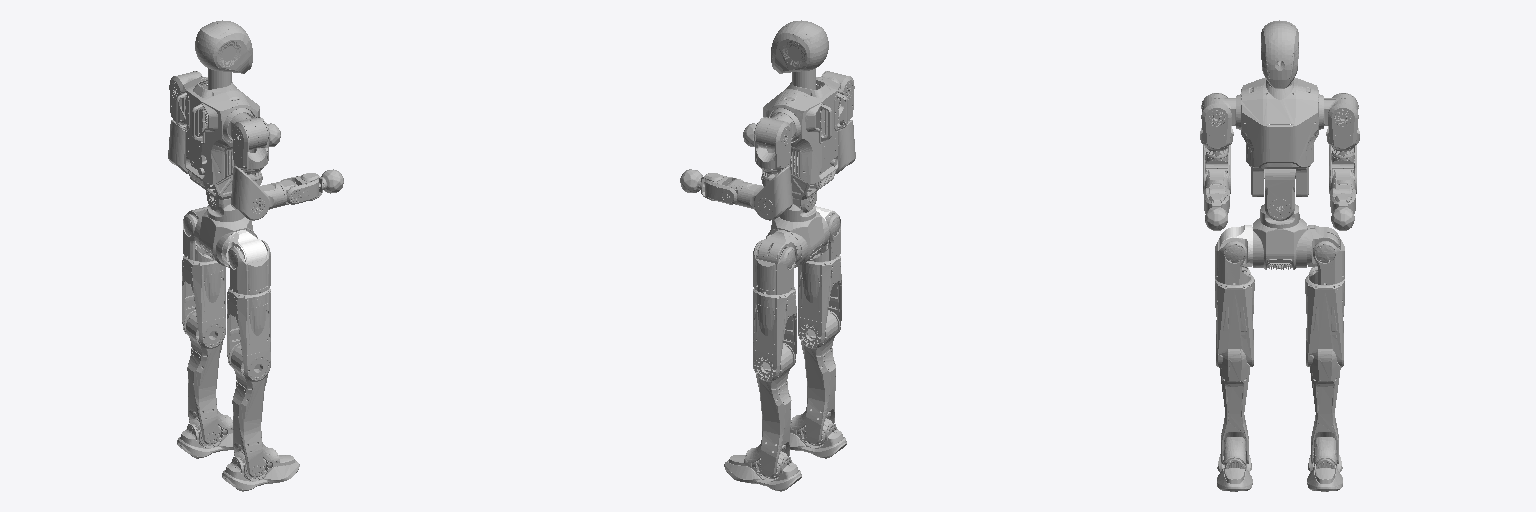
--- Render facts (derived) ---
The picture shows the robot from 3 angles, left to right: view 1: azimuth 30°, elevation 25°; view 2: azimuth 150°, elevation 25°; view 3: azimuth 270°, elevation 25°; orthographic projection.
Robot: B-20250522 — 30 links, 29 joints (29 revolute); root link base_link; default pose: every joint at zero.
Links seen in each view (by area): view 1: body, right_hip_z_link, left_hip_z_link, right_knee_link, left_knee_link, right_ankle_x_link, right_hip_x_link, right_shoulder_z_link, base_link, left_ankle_x_link, right_shoulder_x_link, right_hip_y_link (+5 smaller); view 2: body, left_hip_z_link, right_hip_z_link, right_knee_link, left_knee_link, left_ankle_x_link, left_hip_x_link, base_link, left_shoulder_z_link, right_ankle_x_link, left_shoulder_x_link, left_hip_y_link (+6 smaller); view 3: body, left_hip_z_link, right_hip_z_link, base_link, right_knee_link, left_knee_link, left_ankle_x_link, right_ankle_x_link, left_hip_x_link, right_hip_x_link, left_shoulder_x_link, right_shoulder_x_link (+8 smaller).
Boxes of the visible links, box(x1,y1,x2,y2) form: body: box(176, 20, 259, 199); right_hip_z_link: box(227, 287, 270, 381); left_hip_z_link: box(182, 255, 225, 348); right_knee_link: box(231, 345, 267, 476); left_knee_link: box(186, 312, 222, 443); right_ankle_x_link: box(222, 444, 299, 491); right_hip_x_link: box(228, 240, 270, 294); right_shoulder_z_link: box(231, 166, 269, 220); base_link: box(194, 211, 257, 267); left_ankle_x_link: box(177, 411, 232, 458); right_shoulder_x_link: box(232, 117, 269, 169); right_hip_y_link: box(222, 230, 267, 263); body: box(763, 20, 847, 199); left_hip_z_link: box(753, 287, 796, 381); right_hip_z_link: box(798, 255, 841, 348); right_knee_link: box(801, 311, 837, 443); left_knee_link: box(756, 344, 792, 476); left_ankle_x_link: box(724, 444, 801, 491); left_hip_x_link: box(753, 240, 795, 294); base_link: box(766, 211, 829, 267); left_shoulder_z_link: box(754, 166, 792, 220); right_ankle_x_link: box(790, 411, 846, 458); left_shoulder_x_link: box(754, 117, 791, 169); left_hip_y_link: box(756, 230, 801, 263); body: box(1236, 20, 1323, 196); left_hip_z_link: box(1305, 275, 1344, 367); right_hip_z_link: box(1215, 275, 1254, 366); base_link: box(1253, 218, 1306, 269); right_knee_link: box(1219, 349, 1249, 463); left_knee_link: box(1310, 349, 1340, 463); left_ankle_x_link: box(1307, 437, 1342, 491); right_ankle_x_link: box(1217, 437, 1252, 491); left_hip_x_link: box(1308, 232, 1344, 284); right_hip_x_link: box(1215, 238, 1250, 284); left_shoulder_x_link: box(1326, 93, 1359, 147); right_shoulder_x_link: box(1200, 93, 1233, 147).
Size in the robot's own frame: 0.5258 by 0.5733 by 1.77 metres.
Meshes: 17 distinct files referenced, 30 mesh visuals loaded (17 binary STL).

URDF robot description (B-20250522):
<?xml version="1.0" encoding="utf-8"?>
<!-- This URDF was automatically created by SolidWorks to URDF Exporter! Originally created by Stephen Brawner ([email redacted]) 
     Commit Version: 1.6.0-4-g7f85cfe  Build Version: 1.6.7995.38578
     For more information, please see http://wiki.ros.org/sw_urdf_exporter -->
<robot name="B-20250522">
    <mujoco>
        <compiler meshdir="./meshes/" balanceinertia="false" discardvisual="false"/>
    </mujoco>
    <link name="base_link">
        <inertial>
            <origin xyz="0.00036 -0.00001 0.01581" rpy="0 0 0"/>
            <mass value="7.82975"/>
            <inertia ixx="0.04503" ixy="0.00004" ixz="0.00009" iyy="0.03128" iyz="0.00001" izz="0.03698"/>
        </inertial>
        <visual>
            <origin xyz="0 0 0" rpy="0 0 0"/>
            <geometry>
                <mesh filename="./meshes/base.stl"/>
            </geometry>
            <material name="">
                <color rgba="0.75294 0.75294 0.75294 1"/>
            </material>
        </visual>
        <collision>
            <origin xyz="0 0 0" rpy="1.57079632 0  0"/>
            <geometry>
                <cylinder length="0.13" radius="0.09"/>
            </geometry>
        </collision>
    </link>
    <link name="waist_z_link">
        <inertial>
            <origin xyz="0.00104 -0.00048 -0.01227" rpy="0 0 0"/>
            <mass value="1.84403"/>
            <inertia ixx="0.00320" ixy="-0.00001" ixz="0" iyy="0.00351" iyz="0.00001"
                     izz="0.00346"/>
        </inertial>
        <visual>
            <origin xyz="0 0 0" rpy="0 0 0"/>
            <geometry>
                <mesh filename="./meshes/waist_z.stl"/>
            </geometry>
            <material name="">
                <color rgba="0.75294 0.75294 0.75294 1"/>
            </material>
        </visual>
        <collision>
            <origin xyz="0 0 -0.07" rpy="0 0 0"/>
            <geometry>
                <cylinder length="0.06" radius="0.065"/>
            </geometry>
        </collision>
    </link>
    <joint name="waist_z_joint" type="revolute">
        <origin xyz="0 0 0.176" rpy="0 0 0"/>
        <parent link="base_link"/>
        <child link="waist_z_link"/>
        <axis xyz="0 0 1"/>
        <limit lower="-3.6652" upper="1.7453" effort="107" velocity="19.38"/>
    </joint>
    <link name="waist_x_link">
        <inertial>
            <origin xyz="-0.00258 0.00086 0.09228" rpy="0 0 0"/>
            <mass value="3.40004"/>
            <inertia ixx="0.01263" ixy="-0.00006" ixz="-0.0006" iyy="0.01307" iyz="-0.00004"
                     izz="0.00876"/>
        </inertial>
        <visual>
            <origin xyz="0 0 0" rpy="0 0 0"/>
            <geometry>
                <mesh filename="./meshes/waist_x.stl"/>
            </geometry>
            <material name="">
                <color rgba="0.75294 0.75294 0.75294 1"/>
            </material>
        </visual>
        <collision>
            <origin xyz="0 0 0.03" rpy="0 0 0"/>
            <geometry>
                <box size="0.12 0.09 0.14"/>
            </geometry>
        </collision>
    </link>
    <joint name="waist_x_joint" type="revolute">
        <origin xyz="0 0 0." rpy="0 0 0"/>
        <parent link="waist_z_link"/>
        <child link="waist_x_link"/>
        <axis xyz="1 0 0"/>
        <limit lower="-0.7854" upper="0.7854" effort="107" velocity="19.38"/>
    </joint>
    <link name="body">
        <inertial>
            <origin xyz="-0.03514 -0.00347 0.18093" rpy="0 0 0"/>
            <mass value="17.72258"/>
            <inertia ixx="0.27657" ixy="0.00425" ixz="-0.00829" iyy="0.27339" iyz="-0.00746" izz="0.15935"/>
        </inertial>
        <visual>
            <origin xyz="0 0 0." rpy="0 0 0"/>
            <geometry>
                <mesh filename="./meshes/body.stl"/>
            </geometry>
            <material name="">
                <color rgba="0.75294 0.75294 0.75294 1"/>
            </material>
        </visual>
        <collision>
            <origin xyz="-0.025 0 0.125" rpy="0 0 0"/>
            <geometry>
                <box size="0.2 0.2 0.375"/>
            </geometry>
        </collision>
        <collision>
            <origin xyz="-0.025 0 0.2" rpy="0 0 0"/>
            <geometry>
                <box size="0.23 0.25 0.25"/>
            </geometry>
        </collision>
        <collision>
            <origin xyz="-0.029 0 0.35" rpy="0 0 0"/>
            <geometry>
                <cylinder length="0.1" radius="0.05"/>
            </geometry>
        </collision>
        <collision>
            <origin xyz="-0.01 0 0.48" rpy="0 0 0"/>
            <geometry>
                <sphere radius="0.1"/>
            </geometry>
        </collision>
    </link>
    <joint name="waist_y_joint" type="revolute">
        <origin xyz="0 0 0.114" rpy="0 0 0"/>
        <parent link="waist_x_link"/>
        <child link="body"/>
        <axis xyz="0 1 0"/>
        <limit lower="-0.5236" upper="1.5708" effort="413" velocity="20"/>
    </joint>

<!--    <link name="body_center">-->
<!--        <visual>-->
<!--            <origin rpy="0 0 0" xyz="0 0 0"/>-->
<!--            <geometry>-->
<!--                <sphere radius="0.011"/>-->
<!--            </geometry>-->
<!--            <material name="darkgray"/>-->
<!--        </visual>-->
<!--    </link>-->

    <!-- <joint name="body_center_joint" type="fixed">
        <parent link="body"/>
        <child link="body_center"/>
        <origin xyz="0 0 0.225"/>
    </joint> -->
    <link name="left_shoulder_y_link">
        <inertial>
            <origin xyz="-0.00283 -0.01423 -0.00089" rpy="0 0 0"/>
            <mass value="1.82215"/>
            <inertia ixx="0.00387" ixy="-0.00002" ixz="0.00003" iyy="0.00253" iyz="-0.00002"
                     izz="0.00402"/>
        </inertial>
        <visual>
            <origin xyz="0 0 0" rpy="-1.57079633 0 0"/>
            <geometry>
                <mesh filename="./meshes/shoulder_y.stl"/>
            </geometry>
            <material name="">
                <color rgba="0.75294 0.75294 0.75294 1"/>
            </material>
        </visual>
        <collision>
            <origin xyz="0 -0.075 0" rpy="1.57079632 0 0"/>
            <geometry>
                <cylinder length="0.1" radius="0.06"/>
            </geometry>
        </collision>
    </link>
    <joint name="left_shoulder_y_joint" type="revolute">
        <origin xyz="-0.03 0.22635 0.225" rpy="0 0 0"/>
        <parent link="body"/>
        <child link="left_shoulder_y_link"/>
        <axis xyz="0 1 0"/>
        <limit lower="-3.3161" upper="1.5708" effort="107" velocity="19.38"/>
    </joint>
    <link name="left_shoulder_x_link">
        <inertial>
            <origin xyz="0.00263 0 -0.05349" rpy="0 0 0"/>
            <mass value="0.97689"/>
            <inertia ixx="0.00258" ixy="0" ixz="0.00027" iyy="0.0031" iyz="0"
                     izz="0.00231"/>
        </inertial>
        <visual>
            <origin xyz="0 0 0" rpy="0 0 0"/>
            <geometry>
                <mesh filename="./meshes/shoulder_x.stl"/>
            </geometry>
            <material name="">
                <color rgba="0.75294 0.75294 0.75294 1"/>
            </material>
        </visual>
        <collision>
            <origin xyz="0 0 -0.09" rpy="0 0 0"/>
            <geometry>
                <cylinder length="0.1" radius="0.055"/>
            </geometry>
        </collision>
        <collision>
            <origin xyz="0 0 0" rpy="0 1.57079632 0"/>
            <geometry>
                <cylinder length="0.11" radius="0.055"/>
            </geometry>
        </collision>
    </link>
    <joint name="left_shoulder_x_joint" type="revolute">
        <origin xyz="0 0 0" rpy="0 0 0"/>
        <parent link="left_shoulder_y_link"/>
        <child link="left_shoulder_x_link"/>
        <axis xyz="1 0 0"/>
        <limit lower="-0.43633" upper="3.5779" effort="107" velocity="19.38"/>
    </joint>
    <link name="left_shoulder_z_link">
        <inertial>
            <origin xyz="-0.00978 -0.00126 0.09022" rpy="0 0 0"/>
            <mass value="1.9789"/>
            <inertia ixx="0.00920" ixy="-0.00002" ixz="0.00031" iyy="0.00904" iyz="0.00022"
                     izz="0.00369"/>
        </inertial>
        <visual>
            <origin xyz="0 0 0" rpy="0 0 0"/>
            <geometry>
                <mesh filename="./meshes/shoulder_z.stl"/>
            </geometry>
            <material name="">
                <color rgba="0.75294 0.75294 0.75294 1"/>
            </material>
        </visual>
        <collision>
            <origin xyz="0 0 0.05" rpy="0 0 0"/>
            <geometry>
                <cylinder length="0.15" radius="0.055"/>
            </geometry>
        </collision>
    </link>
    <joint name="left_shoulder_z_joint" type="revolute">
        <origin xyz="0 0 -0.265" rpy="0 0 0"/>
        <parent link="left_shoulder_x_link"/>
        <child link="left_shoulder_z_link"/>
        <axis xyz="0 0 1"/>
        <limit lower="-2.9671" upper="2.9671" effort="107" velocity="19.38"/>
    </joint>
    <link name="left_elbow_link">
        <inertial>
            <origin xyz="-0.00024 0.00041 -0.02569" rpy="0 0 0"/>
            <mass value="2.12943"/>
            <inertia ixx="0.00530" ixy="0.00003" ixz="0.00005" iyy="0.00528" iyz="0.00002"
                     izz="0.00289"/>
        </inertial>
        <visual>
            <origin xyz="0 0 0" rpy="0 0 0"/>
            <geometry>
                <mesh filename="./meshes/elbow.stl"/>
            </geometry>
            <material name="">
                <color rgba="0.75294 0.75294 0.75294 1"/>
            </material>
        </visual>
        <collision>
            <origin xyz="0 0 0" rpy="1.57079632 0 0"/>
            <geometry>
                <cylinder length="0.11" radius="0.055"/>
            </geometry>
        </collision>
        <collision>
            <origin xyz="0 0 -0.05" rpy="0 0 0"/>
            <geometry>
                <cylinder length="0.15" radius="0.045"/>
            </geometry>
        </collision>
    </link>
    <joint name="left_elbow_joint" type="revolute">
        <origin xyz="0 0 0" rpy="0 -1.57079633 0"/>
        <parent link="left_shoulder_z_link"/>
        <child link="left_elbow_link"/>
        <axis xyz="0 1 0"/>
        <limit lower="-0.767945" upper="1.74533" effort="107" velocity="19.38"/>
    </joint>
    <link name="left_wrist_z_link">
        <inertial>
            <origin xyz="0.00003 0.00439 0.00857" rpy="0 0 0"/>
            <mass value="0.79873"/>
            <inertia ixx="0.00085" ixy="0" ixz="0" iyy="0.0008" iyz="0"
                     izz="0.00072"/>
        </inertial>
        <visual>
            <origin xyz="0 0 0" rpy="0 0 0"/>
            <geometry>
                <mesh filename="./meshes/wrist_z.stl"/>
            </geometry>
            <material name="">
                <color rgba="0.75294 0.75294 0.75294 1"/>
            </material>
        </visual>
        <collision>
            <origin xyz="0 0 0" rpy="1.57079632 0 0"/>
            <geometry>
                <cylinder length="0.095" radius="0.04"/>
            </geometry>
        </collision>
    </link>
    <joint name="left_wrist_z_joint" type="revolute">
        <origin xyz="0 0 -0.16" rpy="0 0 0"/>
        <parent link="left_elbow_link"/>
        <child link="left_wrist_z_link"/>
        <axis xyz="0 0 1"/>
        <limit lower="-2.9671" upper="2.9671" effort="31" velocity="23.76"/>
    </joint>
    <link name="left_wrist_y_link">
        <inertial>
            <origin xyz="0.00237 -0.00160 -0.05688" rpy="0 0 0"/>
            <mass value="0.96977"/>
            <inertia ixx="0.00183" ixy="0" ixz="-0.00002" iyy="0.00154" iyz="-0.00011"
                     izz="0.00115"/>
        </inertial>
        <visual>
            <origin xyz="0 0 0" rpy="0 0 0"/>
            <geometry>
                <mesh filename="./meshes/wrist_y.stl"/>
            </geometry>
            <material name="">
                <color rgba="0.75294 0.75294 0.75294 1"/>
            </material>
        </visual>
        <collision>
            <origin xyz="0 0 -0.08" rpy=" 0 1.57079632 0"/>
            <geometry>
                <cylinder length="0.09" radius="0.04"/>
            </geometry>
        </collision>
    </link>
    <joint name="left_wrist_y_joint" type="revolute">
        <origin xyz="0 0 0" rpy="0 0 0"/>
        <parent link="left_wrist_z_link"/>
        <child link="left_wrist_y_link"/>
        <axis xyz="0 1 0"/>
        <limit lower="-1.5708" upper="1.5708" effort="31" velocity="23.76"/>
    </joint>
    <link name="left_wrist_x_link">
        <inertial>
            <origin xyz="-0.00177 -0.00028 -0.05143" rpy="0 0 0"/>
            <mass value="0.31088"/>
            <inertia ixx="0.0007" ixy="0" ixz="-0.00003" iyy="0.00089" iyz="0" izz="0.00039"/>
        </inertial>
        <visual>
            <origin xyz="0 0 0" rpy="0 0 0"/>
            <geometry>
                <mesh filename="./meshes/wrist_x.stl"/>
            </geometry>
            <material name="">
                <color rgba="0.75294 0.75294 0.75294 1"/>
            </material>
        </visual>
        <collision>
            <origin xyz="0 0 -0.0975" rpy=" 0 0 0"/>
            <geometry>
                <sphere radius="0.0425"/>
            </geometry>
        </collision>

    </link>
    <joint name="left_wrist_x_joint" type="revolute">
        <origin xyz="0 0 -0.08" rpy="0 0 0"/>
        <parent link="left_wrist_y_link"/>
        <child link="left_wrist_x_link"/>
        <axis xyz="1 0 0"/>
        <limit lower="-1.5708" upper="1.5708" effort="31" velocity="23.76"/>
    </joint>
    <link name="right_shoulder_y_link">
        <inertial>
            <origin xyz="-0.00283 0.01423 0.00089" rpy="0 0 0"/>
            <mass value="1.82215"/>
            <inertia ixx="0.00387" ixy="0.00002" ixz="0.00003" iyy="0.00253" iyz="-0.00002" izz="0.00402"/>
        </inertial>
        <visual>
            <origin xyz="0 0 0" rpy="1.57079633 0 0"/>
            <geometry>
                <mesh filename="./meshes/shoulder_y.stl"/>
            </geometry>
            <material name="">
                <color rgba="0.75294 0.75294 0.75294 1"/>
            </material>
        </visual>
        <collision>
            <origin xyz="0 0.075 0" rpy="1.57079632 0 0"/>
            <geometry>
                <cylinder length="0.1" radius="0.06"/>
            </geometry>
        </collision>
    </link>
    <joint name="right_shoulder_y_joint" type="revolute">
        <origin xyz="-0.03 -0.22635 0.225" rpy="0 0 0"/>
        <parent link="body"/>
        <child link="right_shoulder_y_link"/>
        <axis xyz="0 1 0"/>
        <limit lower="-3.3161" upper="1.5708" effort="107" velocity="19.38"/>
    </joint>
    <link name="right_shoulder_x_link">
        <inertial>
            <origin xyz="0.00263 0 -0.05349" rpy="0 0 0"/>
            <mass value="0.97689"/>
            <inertia ixx="0.00258" ixy="0" ixz="-0.00027" iyy="0.0031" iyz="0"
                     izz="0.00231"/>
        </inertial>
        <visual>
            <origin xyz="0 0 0" rpy="0 0 0"/>
            <geometry>
                <mesh filename="./meshes/shoulder_x.stl"/>
            </geometry>
            <material name="">
                <color rgba="0.75294 0.75294 0.75294 1"/>
            </material>
        </visual>
        <collision>
            <origin xyz="0 0 -0.09" rpy="0 0 0"/>
            <geometry>
                <cylinder length="0.1" radius="0.055"/>
            </geometry>
        </collision>
        <collision>
            <origin xyz="0 0 0" rpy="0 1.57079632 0"/>
            <geometry>
                <cylinder length="0.11" radius="0.055"/>
            </geometry>
        </collision>
    </link>
    <joint name="right_shoulder_x_joint" type="revolute">
        <origin xyz="0 0 0" rpy="0 0 0"/>
        <parent link="right_shoulder_y_link"/>
        <child link="right_shoulder_x_link"/>
        <axis xyz="1 0 0"/>
        <limit lower="-3.5779" upper="0.43633" effort="107" velocity="19.38"/>
    </joint>
    <link name="right_shoulder_z_link">
        <inertial>
            <origin xyz="-0.00978 -0.00126 0.09022" rpy="0 0 0"/>
            <mass value="1.9789"/>
            <inertia ixx="0.0092" ixy="-0.00002" ixz="0.00031"
                     iyy="0.00904" iyz="0.00022" izz="0.00369"/>
        </inertial>
        <visual>
            <origin xyz="0 0 0" rpy="0 0 0"/>
            <geometry>
                <mesh filename="./meshes/shoulder_z.stl"/>
            </geometry>
            <material name="">
                <color rgba="0.752941176470588 0.752941176470588 0.752941176470588 1"/>
            </material>
        </visual>
        <collision>
            <origin xyz="0 0 0.05" rpy="0 0 0"/>
            <geometry>
                <cylinder length="0.15" radius="0.055"/>
            </geometry>
        </collision>
    </link>
    <joint name="right_shoulder_z_joint" type="revolute">
        <origin xyz="0 0 -0.265" rpy="0 0 0"/>
        <parent link="right_shoulder_x_link"/>
        <child link="right_shoulder_z_link"/>
        <axis xyz="0 0 1"/>
        <limit lower="-2.9671" upper="2.9671" effort="107" velocity="19.38"/>
    </joint>
    <link name="right_elbow_link">
        <inertial>
            <origin xyz="-0.00024 0.00041 -0.02569" rpy="0 0 0"/>
            <mass value="2.12943"/>
            <inertia ixx="0.0053" ixy="0.00003" ixz="0.00005" iyy="0.00528" iyz="0"
                     izz="0.00289"/>
        </inertial>
        <visual>
            <origin xyz="0 0 0" rpy="0 0 0"/>
            <geometry>
                <mesh filename="./meshes/elbow.stl"/>
            </geometry>
            <material name="">
                <color rgba="0.75294 0.75294 0.75294 1"/>
            </material>
        </visual>
        <collision>
            <origin xyz="0 0 0" rpy="1.57079632 0 0"/>
            <geometry>
                <cylinder length="0.11" radius="0.055"/>
            </geometry>
        </collision>
        <collision>
            <origin xyz="0 0 -0.05" rpy="0 0 0"/>
            <geometry>
                <cylinder length="0.15" radius="0.045"/>
            </geometry>
        </collision>
    </link>
    <joint name="right_elbow_joint" type="revolute">
        <origin xyz="0 0 0" rpy="0 -1.57079632 0"/>
        <parent link="right_shoulder_z_link"/>
        <child link="right_elbow_link"/>
        <axis xyz="0 1 0"/>
        <limit lower="-0.767945" upper="1.74533" effort="107" velocity="19.38"/>
    </joint>
    <link name="right_wrist_z_link">
        <inertial>
            <origin xyz="0.00003 0.00439 0.00857" rpy="0 0 0"/>
            <mass value="0.79873"/>
            <inertia ixx="0.00085" ixy="0" ixz="0" iyy="0.00086" iyz="0.00003"
                     izz="0.00072"/>
        </inertial>
        <visual>
            <origin xyz="0 0 0" rpy="0 0 0"/>
            <geometry>
                <mesh filename="./meshes/wrist_z.stl"/>
            </geometry>
            <material name="">
                <color rgba="0.75294 0.75294 0.75294 1"/>
            </material>
        </visual>
        <collision>
            <origin xyz="0 0 0" rpy="1.57079632 0 0"/>
            <geometry>
                <cylinder length="0.095" radius="0.04"/>
            </geometry>
        </collision>
    </link>
    <joint name="right_wrist_z_joint" type="revolute">
        <origin xyz="0 0 -0.16" rpy="0 0 0"/>
        <parent link="right_elbow_link"/>
        <child link="right_wrist_z_link"/>
        <axis xyz="0 0 1"/>
        <limit lower="-2.9671" upper="2.9671" effort="31" velocity="23.76"/>
    </joint>
    <link name="right_wrist_y_link">
        <inertial>
            <origin xyz="0.00237 -0.00160 -0.05988" rpy="0 0 0"/>
            <mass value="0.96977"/>
            <inertia ixx="0.00183" ixy="0" ixz="-0.00002" iyy="0.00154" iyz="-0.00011"
                     izz="0.00115"/>
        </inertial>
        <visual>
            <origin xyz="0 0 0" rpy="0 0 0"/>
            <geometry>
                <mesh filename="./meshes/wrist_y.stl"/>
            </geometry>
            <material name="">
                <color rgba="0.75294 0.75294 0.75294 1"/>
            </material>
        </visual>
        <collision>
            <origin xyz="0 0 -0.08" rpy=" 0 1.57079632 0"/>
            <geometry>
                <cylinder length="0.09" radius="0.04"/>
            </geometry>
        </collision>
    </link>
    <joint name="right_wrist_y_joint" type="revolute">
        <origin xyz="0 0 0" rpy="0 0 0"/>
        <parent link="right_wrist_z_link"/>
        <child link="right_wrist_y_link"/>
        <axis xyz="0 1 0"/>
        <limit lower="-1.5708" upper="1.5708" effort="31" velocity="23.76"/>
    </joint>
    <link name="right_wrist_x_link">
        <inertial>
            <origin xyz="-0.00177 -0.00028 -0.05143" rpy="0 0 0"/>
            <mass value="0.31088"/>
            <inertia ixx="0.0007" ixy="0" ixz="-0.00003" iyy="0.00089" iyz="0" izz="0.00039"/>
        </inertial>
        <visual>
            <origin xyz="0 0 0" rpy="0 0 0"/>
            <geometry>
                <mesh filename="./meshes/wrist_x.stl"/>
            </geometry>
            <material name="">
                <color rgba="0.75294 0.75294 0.75294 1"/>
            </material>
        </visual>
        <collision>
            <origin xyz="0 0 -0.0975" rpy=" 0 0 0"/>
            <geometry>
                <sphere radius="0.0425"/>
            </geometry>
        </collision>
    </link>
    <joint name="right_wrist_x_joint" type="revolute">
        <origin xyz="0 0 -0.08" rpy="0 0 0"/>
        <parent link="right_wrist_y_link"/>
        <child link="right_wrist_x_link"/>
        <axis xyz="1 0 0"/>
        <limit lower="-1.5708" upper="1.5708" effort="31" velocity="23.76"/>
    </joint>
    <link name="left_hip_y_link">
        <inertial>
            <origin xyz="-0.00121 -0.01442 -0.0003" rpy="0 0 0"/>
            <mass value="1.89927"/>
            <inertia ixx="0.00366" ixy="-0.00006" ixz="0.00002" iyy="0.00312" iyz="0.00005"
                     izz="0.00341"/>
        </inertial>
        <visual>
            <origin xyz="0 0 0" rpy="3.1415926535 0 0"/>
            <geometry>
                <mesh filename="./meshes/hip_y.stl"/>
            </geometry>
            <material name="">
                <color rgba="0.75294 0.75294 0.75294 1"/>
            </material>
        </visual>
        <collision>
            <origin xyz="0 -0.05 0" rpy="1.57079632 0 0"/>
            <geometry>
                <cylinder length="0.08" radius="0.07"/>
            </geometry>
        </collision>
        <collision>
            <origin xyz="0 0 0" rpy="0 1.57079632 0"/>
            <geometry>
                <cylinder length="0.135" radius="0.06"/>
            </geometry>
        </collision>
    </link>
    <joint name="left_hip_y_joint" type="revolute">
        <origin xyz="0 0.162 0" rpy="0 0 0"/>
        <parent link="base_link"/>
        <child link="left_hip_y_link"/>
        <axis xyz="0 1 0"/>
        <limit lower="-2.7925" upper="1.5708" effort="413" velocity="20"/>
    </joint>
    <link name="left_hip_x_link">
        <inertial>
            <origin xyz="0.00153 0.00791 -0.07015" rpy="0 0 0"/>
            <mass value="1.75097"/>
            <inertia ixx="0.00721" ixy="-0.00002" ixz="0.00024" iyy="0.00954" iyz="-0.00003"
                     izz="0.00538"/>
        </inertial>
        <visual>
            <origin xyz="0 0 0" rpy="0 0 3.1415926535"/>
            <geometry>
                <mesh filename="./meshes/hip_x.stl"/>
            </geometry>
            <material name="">
                <color rgba="0.75294 0.75294 0.75294 1"/>
            </material>
        </visual>
        <collision>
            <origin xyz="0 0 -0.05" rpy="0 0 0"/>
            <geometry>
                <box size="0.14 0.08 0.15"/>
            </geometry>
        </collision>
    </link>
    <joint name="left_hip_x_joint" type="revolute">
        <origin xyz="0 0 0" rpy="0 0 0"/>
        <parent link="left_hip_y_link"/>
        <child link="left_hip_x_link"/>
        <axis xyz="1 0 0"/>
        <limit lower="-0.43633" upper="2.618" effort="107" velocity="19.38"/>
    </joint>
    <link name="left_hip_z_link">
        <inertial>
            <origin xyz="-0.00126 0.00032 -0.04122" rpy="0 0 0"/>
            <mass value="3.59517"/>
            <inertia ixx="0.04922" ixy="0.00002" ixz="-0.00012" iyy="0.04764" iyz="-0.00005"
                     izz="0.01268"/>
        </inertial>
        <visual>
            <origin xyz="0 0 0" rpy="0 0 0"/>
            <geometry>
                <mesh filename="./meshes/hip_z.stl"/>
            </geometry>
            <material name="">
                <color rgba="0.75294 0.75294 0.75294 1"/>
            </material>
        </visual>
        <collision>
            <origin xyz="0 0 -0.12" rpy="0 0 0"/>
            <geometry>
                <cylinder length="0.26" radius="0.06"/>
            </geometry>
        </collision>
    </link>
    <joint name="left_hip_z_joint" type="revolute">
        <origin xyz="0 0 -0.142" rpy="0 0 0"/>
        <parent link="left_hip_x_link"/>
        <child link="left_hip_z_link"/>
        <axis xyz="0 0 1"/>
        <limit lower="-0.5236" upper="3.6652" effort="107" velocity="19.38"/>
    </joint>
    <link name="left_knee_link">
        <inertial>
            <origin xyz="-0.00065 0.00024 -0.10231" rpy="0 0 0"/>
            <mass value="4.66882"/>
            <inertia ixx="0.09627" ixy="-0.00005" ixz="-0.00251" iyy="0.09562" iyz="0.00053" izz="0.00973"/>
        </inertial>
        <visual>
            <origin xyz="0 0 0" rpy="0 0 0"/>
            <geometry>
                <mesh filename="./meshes/knee.stl"/>
            </geometry>
            <material name="">
                <color rgba="0.75294 0.75294 0.75294 1"/>
            </material>
        </visual>
        <collision>
            <origin xyz="0 0 0" rpy="1.57079632 0 0"/>
            <geometry>
                <cylinder length="0.12" radius="0.07"/>
            </geometry>
        </collision>
        <collision>
            <origin xyz="0 0 -0.2" rpy="0 0 0"/>
            <geometry>
                <cylinder length="0.3" radius="0.055"/>
            </geometry>
        </collision>
    </link>
    <joint name="left_knee_joint" type="revolute">
        <origin xyz="0 0 -0.278" rpy="0 0 0"/>
        <parent link="left_hip_z_link"/>
        <child link="left_knee_link"/>
        <axis xyz="0 1 0"/>
        <limit lower="-0.17453" upper="2.5307" effort="413" velocity="20"/>
    </joint>
    <link name="left_ankle_y_link">
        <inertial>
            <origin xyz="0.00233 -0.00031 -0.00088" rpy="0 0 0"/>
            <mass value="1.4119"/>
            <inertia ixx="0.00172" ixy="0.00002" ixz="0" iyy="0.00183" iyz="0.00002"
                     izz="0.00191"/>
        </inertial>
        <visual>
            <origin xyz="0 0 0" rpy="0 0 0"/>
            <geometry>
                <mesh filename="./meshes/ankle_y.stl"/>
            </geometry>
            <material name="">
                <color rgba="0.75294 0.75294 0.75294 1"/>
            </material>
        </visual>
        <collision>
            <origin xyz="0 0 0" rpy="1.57079632 0 0"/>
            <geometry>
                <cylinder length="0.11" radius="0.045"/>
            </geometry>
        </collision>
    </link>
    <joint name="left_ankle_y_joint" type="revolute">
        <origin xyz="0 0 -0.41" rpy="0 0 0"/>
        <parent link="left_knee_link"/>
        <child link="left_ankle_y_link"/>
        <axis xyz="0 1 0"/>
        <limit lower="-1.0472" upper="0.7854" effort="107" velocity="19.38"/>
    </joint>
    <link name="left_ankle_x_link">
        <inertial>
            <origin xyz="0.05253 0.00008 -0.0295" rpy="0 0 0"/>
            <mass value="1.78979"/>
            <inertia ixx="0.00315" ixy="0.00001" ixz="0.00052" iyy="0.01056" iyz="0"
                     izz="0.01041"/>
        </inertial>
        <visual>
            <origin xyz="0 0 0" rpy="0 0 0"/>
            <geometry>
                <mesh filename="./meshes/ankle_x.stl"/>
            </geometry>
            <material name="">
                <color rgba="0.75294 0.75294 0.75294 1"/>
            </material>
        </visual>
        <collision>
            <origin xyz="0.035 0 -0.05" rpy="0 0 0"/>
            <geometry>
                <box size="0.21 0.12 0.04"/>
            </geometry>
        </collision>
        <collision>
            <origin xyz="0.16 0 -0.03" rpy="0 0 0"/>
            <geometry>
                <sphere radius="0.035"/>
            </geometry>
        </collision>
        <collision>
            <origin xyz="0.14 0.025 -0.035" rpy="0 0 0"/>
            <geometry>
                <sphere radius="0.035"/>
            </geometry>
        </collision>
        <collision>
            <origin xyz="0.14 -0.025 -0.035" rpy="0 0 0"/>
            <geometry>
                <sphere radius="0.035"/>
            </geometry>
        </collision>
        <collision>
            <origin xyz="-0.06 0.025 -0.035" rpy="0 0 0"/>
            <geometry>
                <sphere radius="0.035"/>
            </geometry>
        </collision>
        <collision>
            <origin xyz="-0.06 -0.025 -0.035" rpy="0 0 0"/>
            <geometry>
                <sphere radius="0.035"/>
            </geometry>
        </collision>
    </link>
    <joint name="left_ankle_x_joint" type="revolute">
        <origin xyz="0 0 0" rpy="0 0 0"/>
        <parent link="left_ankle_y_link"/>
        <child link="left_ankle_x_link"/>
        <axis xyz="1 0 0"/>
        <limit lower="-0.61087" upper="0.61087" effort="31" velocity="23.76"/>
    </joint>
    <link name="right_hip_y_link">
        <inertial>
            <origin xyz="0.00121 0.01442 -0.0003" rpy="0 0 0"/>
            <mass value="1.89927"/>
            <inertia ixx="0.00366" ixy="-0.00006" ixz="-0.00002" iyy="0.00312" iyz="-0.00005" izz="0.00341"/>
        </inertial>
        <visual>
            <origin xyz="0 0 0" rpy="0 0 0"/>
            <geometry>
                <mesh filename="./meshes/hip_y.stl"/>
            </geometry>
            <material name="">
                <color rgba="1 1 1 1"/>
            </material>
        </visual>
        <collision>
            <origin xyz="0 0.05 0" rpy="1.57079632 0 0"/>
            <geometry>
                <cylinder length="0.08" radius="0.07"/>
            </geometry>
        </collision>
        <collision>
            <origin xyz="0 0 0" rpy="0 1.57079632 0"/>
            <geometry>
                <cylinder length="0.135" radius="0.06"/>
            </geometry>
        </collision>
    </link>
    <joint name="right_hip_y_joint" type="revolute">
        <origin xyz="0 -0.162 0" rpy="0 0 0"/>
        <parent link="base_link"/>
        <child link="right_hip_y_link"/>
        <axis xyz="0 1 0"/>
        <limit lower="-2.7925" upper="1.5708" effort="413" velocity="20"/>
    </joint>
    <link name="right_hip_x_link">
        <inertial>
            <origin xyz="-0.00153 -0.00791 -0.07015" rpy="0 0 0"/>
            <mass value="1.75097"/>
            <inertia ixx="0.00721" ixy="-0.00002" ixz="-0.00024" iyy="0.00954" iyz="0.00003"
                     izz="0.00538"/>
        </inertial>
        <visual>
            <origin xyz="0 0 0" rpy="0 0 0"/>
            <geometry>
                <mesh filename="./meshes/hip_x.stl"/>
            </geometry>
            <material name="">
                <color rgba="0.75294 0.75294 0.75294 1"/>
            </material>
        </visual>
        <collision>
            <origin xyz="0 0 -0.05" rpy="0 0 0"/>
            <geometry>
                <box size="0.14 0.08 0.15"/>
            </geometry>
        </collision>
    </link>
    <joint name="right_hip_x_joint" type="revolute">
        <origin xyz="0 0 0" rpy="0 0 0"/>
        <parent link="right_hip_y_link"/>
        <child link="right_hip_x_link"/>
        <axis xyz="1 0 0"/>
        <limit lower="-2.618" upper="0.43633" effort="107" velocity="19.38"/>
    </joint>
    <link name="right_hip_z_link">
        <inertial>
            <origin xyz="-0.00126 0.00032 -0.04122" rpy="0 0 0"/>
            <mass value="3.59517"/>
            <inertia ixx="0.04922" ixy="0.00002" ixz="-0.00012" iyy="0.04764" iyz="0.00005"
                     izz="0.01268"/>
        </inertial>
        <visual>
            <origin xyz="0 0 0" rpy="0 0 0"/>
            <geometry>
                <mesh filename="./meshes/hip_z.stl"/>
            </geometry>
            <material name="">
                <color rgba="0.75294 0.75294 0.75294 1"/>
            </material>
        </visual>
        <collision>
            <origin xyz="0 0 -0.12" rpy="0 0 0"/>
            <geometry>
                <cylinder length="0.26" radius="0.06"/>
            </geometry>
        </collision>
    </link>
    <joint name="right_hip_z_joint" type="revolute">
        <origin xyz="0 0 -0.142" rpy="0 0 0"/>
        <parent link="right_hip_x_link"/>
        <child link="right_hip_z_link"/>
        <axis xyz="0 0 1"/>
        <limit lower="-3.6652" upper="0.5236" effort="107" velocity="19.38"/>
    </joint>
    <link name="right_knee_link">
        <inertial>
            <origin xyz="-0.00065 0.00024 -0.10231" rpy="0 0 0"/>
            <mass value="4.66882"/>
            <inertia ixx="0.09627" ixy="-0.00005" ixz="-0.00251" iyy="0.09562" iyz="0.00053" izz="0.00973"/>
        </inertial>
        <visual>
            <origin xyz="0 0 0" rpy="0 0 0"/>
            <geometry>
                <mesh filename="./meshes/knee.stl"/>
            </geometry>
            <material name="">
                <color rgba="0.75294 0.75294 0.75294 1"/>
            </material>
        </visual>
        <collision>
            <origin xyz="0 0 0" rpy="1.57079632 0 0"/>
            <geometry>
                <cylinder length="0.12" radius="0.07"/>
            </geometry>
        </collision>
        <collision>
            <origin xyz="0 0 -0.2" rpy="0 0 0"/>
            <geometry>
                <cylinder length="0.3" radius="0.055"/>
            </geometry>
        </collision>
    </link>
    <joint name="right_knee_joint" type="revolute">
        <origin xyz="0 0 -0.278" rpy="0 0 0"/>
        <parent link="right_hip_z_link"/>
        <child link="right_knee_link"/>
        <axis xyz="0 1 0"/>
        <limit lower="-0.17453" upper="2.5307" effort="413" velocity="20"/>
    </joint>
    <link name="right_ankle_y_link">
        <inertial>
            <origin xyz="0.00233 -0.00031 0.00088" rpy="0 0 0"/>
            <mass value="1.4119"/>
            <inertia ixx="0.00172" ixy="0.00002" ixz="0" iyy="0.00182" iyz="0.00002"
                     izz="0.00192"/>
        </inertial>
        <visual>
            <origin xyz="0 0 0" rpy="0 0 0"/>
            <geometry>
                <mesh filename="./meshes/ankle_y.stl"/>
            </geometry>
            <material name="">
                <color rgba="0.75294 0.75294 0.75294 1"/>
            </material>
        </visual>
        <collision>
            <origin xyz="0 0 0" rpy="1.57079632 0 0"/>
            <geometry>
                <cylinder length="0.11" radius="0.045"/>
            </geometry>
        </collision>
    </link>
    <joint name="right_ankle_y_joint" type="revolute">
        <origin xyz="0 0 -0.41" rpy="0 0 0"/>
        <parent link="right_knee_link"/>
        <child link="right_ankle_y_link"/>
        <axis xyz="0 1 0"/>
        <limit lower="-1.0472" upper="0.7854" effort="107" velocity="19.38"/>
    </joint>
    <link name="right_ankle_x_link">
        <inertial>
            <origin xyz="0.05253 0.00008 -0.0295" rpy="0 0 0"/>
            <mass value="1.78979"/>
            <inertia ixx="0.00315" ixy="0.00001" ixz="0.00052" iyy="0.01056" iyz="0"
                     izz="0.01041"/>
        </inertial>
        <visual>
            <origin xyz="0 0 0" rpy="0 0 0"/>
            <geometry>
                <mesh filename="./meshes/ankle_x.stl"/>
            </geometry>
            <material name="">
                <color rgba="0.75294 0.75294 0.75294 1"/>
            </material>
        </visual>
        <collision>
            <origin xyz="0.035 0 -0.05" rpy="0 0 0"/>
            <geometry>
                <box size="0.21 0.12 0.04"/>
            </geometry>
        </collision>
        <collision>
            <origin xyz="0.16 0 -0.03" rpy="0 0 0"/>
            <geometry>
                <sphere radius="0.035"/>
            </geometry>
        </collision>
        <collision>
            <origin xyz="0.14 0.025 -0.035" rpy="0 0 0"/>
            <geometry>
                <sphere radius="0.035"/>
            </geometry>
        </collision>
        <collision>
            <origin xyz="0.14 -0.025 -0.035" rpy="0 0 0"/>
            <geometry>
                <sphere radius="0.035"/>
            </geometry>
        </collision>
        <collision>
            <origin xyz="-0.06 0.025 -0.035" rpy="0 0 0"/>
            <geometry>
                <sphere radius="0.035"/>
            </geometry>
        </collision>
        <collision>
            <origin xyz="-0.06 -0.025 -0.035" rpy="0 0 0"/>
            <geometry>
                <sphere radius="0.035"/>
            </geometry>
        </collision>
    </link>
    <joint name="right_ankle_x_joint" type="revolute">
        <origin xyz="0 0 0" rpy="0 0 0"/>
        <parent link="right_ankle_y_link"/>
        <child link="right_ankle_x_link"/>
        <axis xyz="1 0 0"/>
        <limit lower="-0.61087" upper="0.61087" effort="31" velocity="23.76"/>
    </joint>

    <!--!!!!!!!!!!!! Mass load !!!!!!!!!!!!!-->
    <!-- <link name="mass_point_1">
        <visual>
            <origin rpy="0 0 0" xyz="0 0 0"/>
            <geometry>
                <sphere radius="0.011"/>
            </geometry>
            <material name="darkgray"/>
        </visual>
    </link>

    <joint name="mass_point_1" type="fixed">
        <parent link="body"/>
        <child link="mass_point_1"/>
        <origin xyz="0.1 -0.13 -0.1"/>
    </joint>

    <link name="mass_point_2">
        <visual>
            <origin rpy="0 0 0" xyz="0 0 0"/>
            <geometry>
                <sphere radius="0.011"/>
            </geometry>
            <material name="darkgray"/>
        </visual>
    </link>

    <joint name="mass_point_2" type="fixed">
        <parent link="body"/>
        <child link="mass_point_2"/>
        <origin xyz="0.1 0.13 -0.1"/>
    </joint>

    <link name="mass_point_3">
        <visual>
            <origin rpy="0 0 0" xyz="0 0 0"/>
            <geometry>
                <sphere radius="0.011"/>
            </geometry>
            <material name="darkgray"/>
        </visual>
    </link>

    <joint name="mass_point_3" type="fixed">
        <parent link="body"/>
        <child link="mass_point_3"/>
        <origin xyz="0.1 0.155 0.3"/>
    </joint>


    <link name="mass_point_4">
        <visual>
            <origin rpy="0 0 0" xyz="0 0 0"/>
            <geometry>
                <sphere radius="0.011"/>
            </geometry>
            <material name="darkgray"/>
        </visual>
    </link>

    <joint name="mass_point_4" type="fixed">
        <parent link="body"/>
        <child link="mass_point_4"/>
        <origin xyz="0.1 -0.155 0.3"/>
    </joint>


    <link name="mass_point_5">
        <visual>
            <origin rpy="0 0 0" xyz="0 0 0"/>
            <geometry>
                <sphere radius="0.011"/>
            </geometry>
            <material name="darkgray"/>
        </visual>
    </link>

    <joint name="mass_point_5" type="fixed">
        <parent link="body"/>
        <child link="mass_point_5"/>
        <origin xyz="-0.1 -0.13 -0.1"/>
    </joint>

    <link name="mass_point_6">
        <visual>
            <origin rpy="0 0 0" xyz="0 0 0"/>
            <geometry>
                <sphere radius="0.011"/>
            </geometry>
            <material name="darkgray"/>
        </visual>
    </link>

    <joint name="mass_point_6" type="fixed">
        <parent link="body"/>
        <child link="mass_point_6"/>
        <origin xyz="-0.1 0.13 -0.1"/>
    </joint>

    <link name="mass_point_7">
        <visual>
            <origin rpy="0 0 0" xyz="0 0 0"/>
            <geometry>
                <sphere radius="0.011"/>
            </geometry>
            <material name="darkgray"/>
        </visual>
    </link>

    <joint name="mass_point_7" type="fixed">
        <parent link="body"/>
        <child link="mass_point_7"/>
        <origin xyz="-0.15 0.155 0.3"/>
    </joint>


    <link name="mass_point_8">
        <visual>
            <origin rpy="0 0 0" xyz="0 0 0"/>
            <geometry>
                <sphere radius="0.011"/>
            </geometry>
            <material name="darkgray"/>
        </visual>
    </link>

    <joint name="mass_point_8" type="fixed">
        <parent link="body"/>
        <child link="mass_point_8"/>
        <origin xyz="-0.15 -0.155 0.3"/>
    </joint> -->
</robot>
